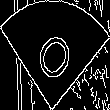O_SW: (30, 22, 80, 88)
